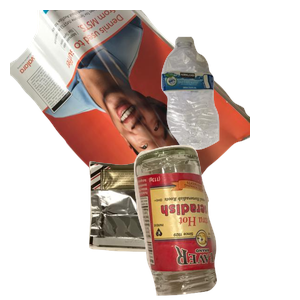glass: (131, 142, 300, 300)
paper: (10, 10, 250, 190)
plastic: (159, 34, 300, 176)
trash: (86, 158, 242, 300)
